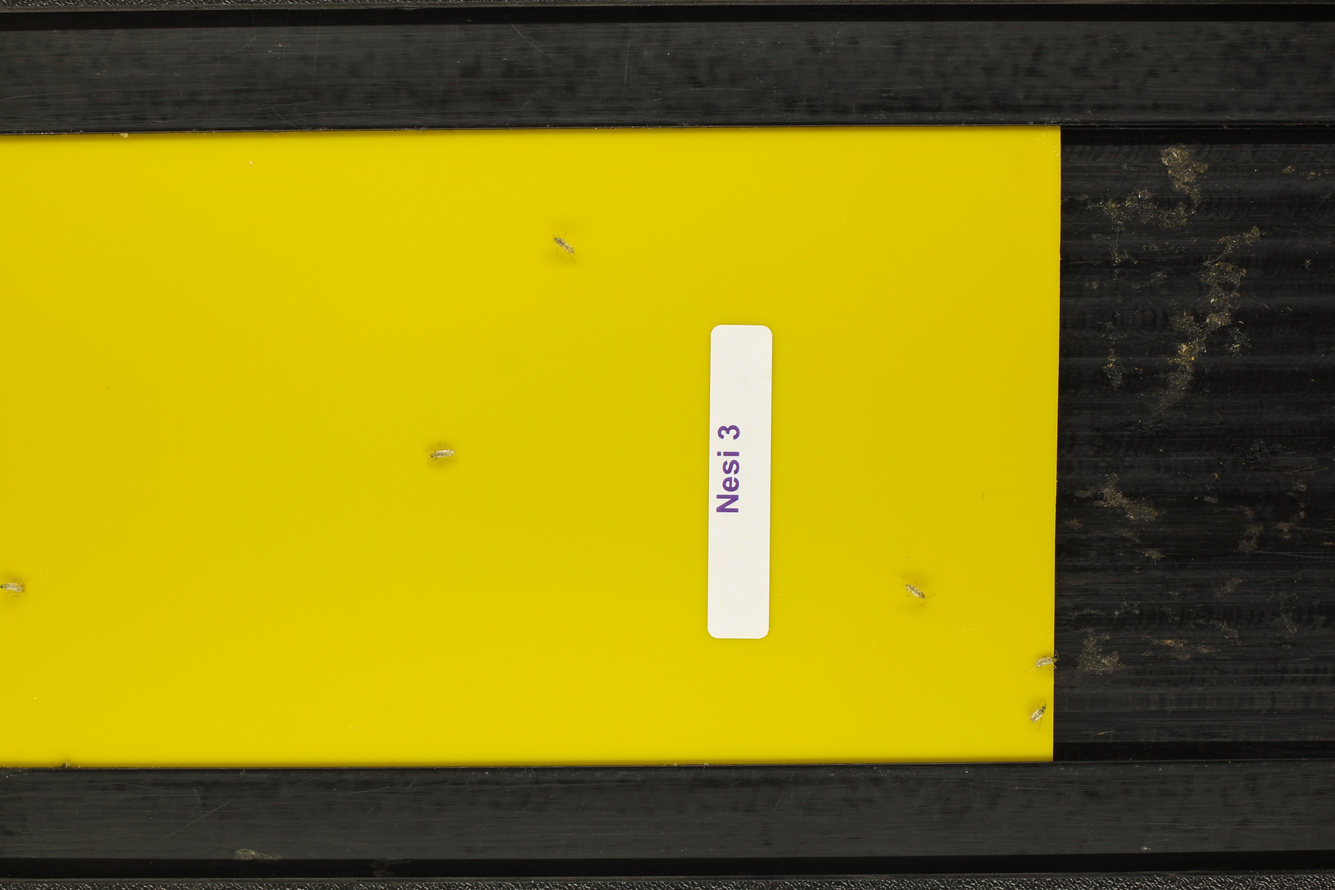NC: (544, 228, 585, 264), (898, 577, 938, 610), (420, 439, 461, 468), (1025, 696, 1048, 732), (0, 576, 34, 600), (1029, 651, 1063, 674)
